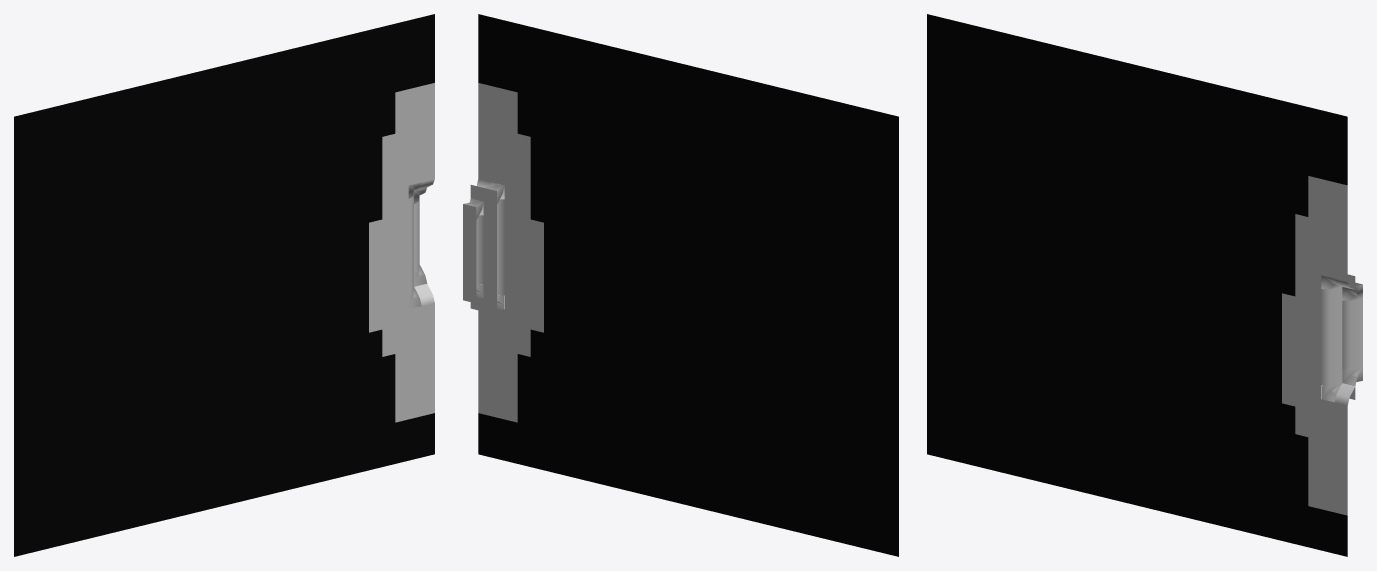
Rendered from Pasture-Place_00_01.obj.
The picture shows the model from 3 angles, left to right: view 1: azimuth 30°, elevation 25°; view 2: azimuth 150°, elevation 25°; view 3: azimuth 330°, elevation 25°; orthographic projection.
Parts seen in each view (by area): view 1: map; view 2: map; view 3: map.
Part boxes in pixels (x1,y1,x2,y2): map: [14, 14, 434, 556]; map: [463, 14, 898, 556]; map: [927, 14, 1362, 556].
Bounding box in the file's own units: 32 × 32 × 2.
